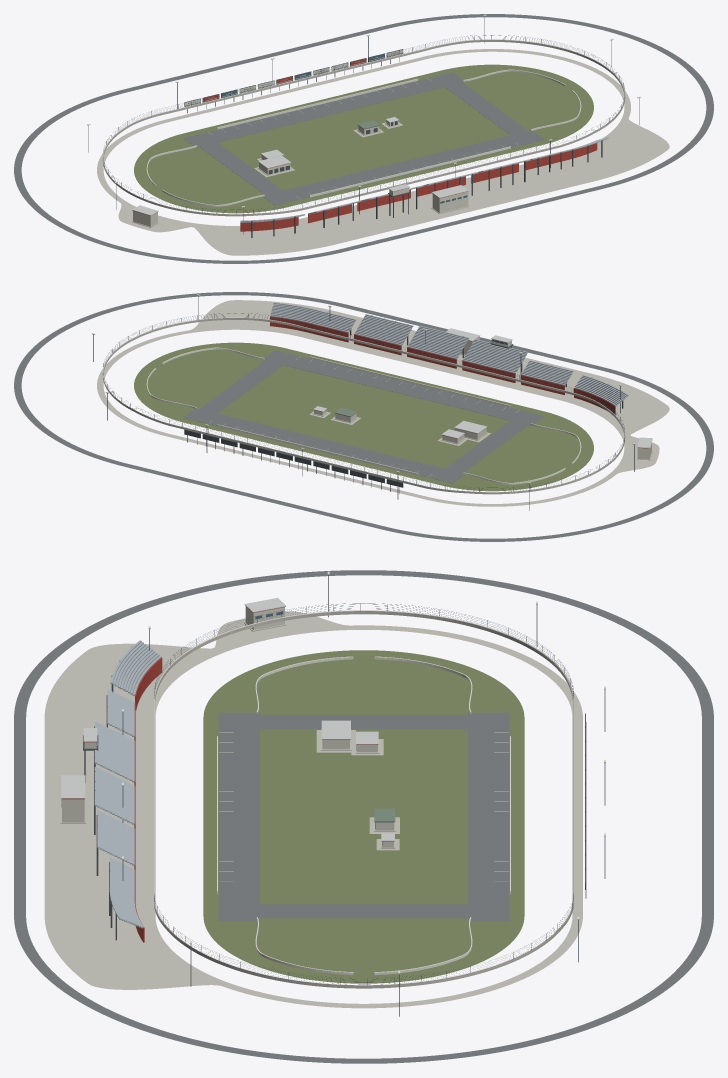
Rendered from OrangeCountySpeedway.fbx.
The picture shows the model from 3 angles, top to bottom: view 1: azimuth 30°, elevation 25°; view 2: azimuth 150°, elevation 25°; view 3: azimuth 270°, elevation 25°; orthographic projection. The views are drawn at different scales.
Visible parts, largest first — view 1: Grass infield, Grandstand and turn concrete pad, Perimeter service road, Backstretch pit road, Frontstretch pit road, Outer white concrete wall, Turn 3–4 transverse pit road, Turn 1–2 transverse pit road, Red grandstand fascia.004, Backstretch • concrete pit divider, Frontstretch • concrete pit divider, Frontstretch press and officials building siding (+3 smaller); view 2: Grass infield, Grandstand and turn concrete pad, Perimeter service road, Frontstretch pit road, Backstretch pit road, Outer white concrete wall, Turn 1–2 transverse pit road, Turn 3–4 transverse pit road, Red grandstand fascia.004, Backstretch • concrete pit divider, Frontstretch • concrete pit divider, Red grandstand fascia.001 (+1 smaller); view 3: Grass infield, Grandstand and turn concrete pad, Perimeter service road, Backstretch pit road, Frontstretch pit road, Outer white concrete wall, Turn 1–2 transverse pit road, Turn 3–4 transverse pit road.
Part boxes in pixels (x1,y1,x2,y2): Grass infield: (134,64,593,213); Grandstand and turn concrete pad: (97,49,669,255); Perimeter service road: (14,14,713,263); Backstretch pit road: (183,72,465,147); Frontstretch pit road: (263,130,544,205); Outer white concrete wall: (102,39,625,216); Turn 3–4 transverse pit road: (197,141,284,196); Turn 1–2 transverse pit road: (443,81,530,136); Red grandstand fascia.004: (525,143,597,170); Backstretch • concrete pit divider: (217,78,418,129); Frontstretch • concrete pit divider: (309,146,510,197); Frontstretch press and officials building siding: (432,191,468,213); Grass infield: (134,342,593,491); Grandstand and turn concrete pad: (97,300,669,506); Perimeter service road: (14,292,713,541); Frontstretch pit road: (262,350,544,425); Backstretch pit road: (183,408,464,483); Outer white concrete wall: (102,317,625,494); Turn 1–2 transverse pit road: (197,359,284,414); Turn 3–4 transverse pit road: (443,419,530,474); Red grandstand fascia.004: (270,316,348,342); Backstretch • concrete pit divider: (217,424,418,475); Frontstretch • concrete pit divider: (309,356,510,407); Red grandstand fascia.001: (462,360,515,382); Grass infield: (203,650,524,983); Grandstand and turn concrete pad: (44,611,582,1008); Perimeter service road: (14,570,713,1063); Backstretch pit road: (468,712,509,920); Frontstretch pit road: (218,712,259,920); Outer white concrete wall: (154,610,573,988); Turn 1–2 transverse pit road: (253,904,474,918); Turn 3–4 transverse pit road: (253,715,474,729).
Size of the model in its own units: 33747 by 1424 by 20224.
